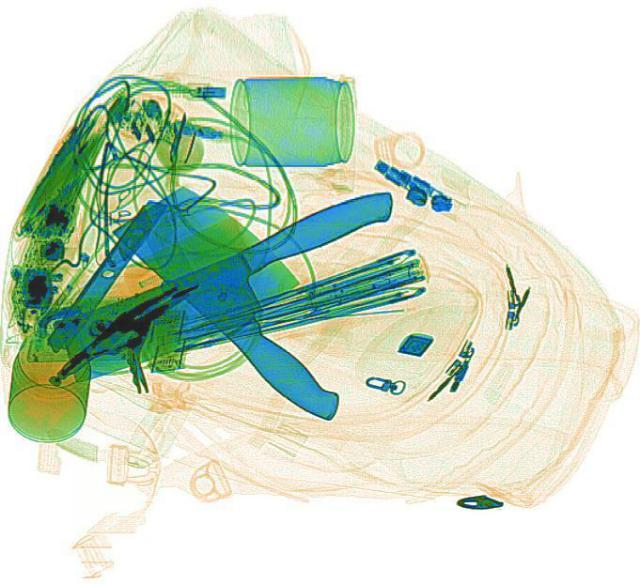Knife: (38, 185, 424, 385), (108, 171, 394, 431)
